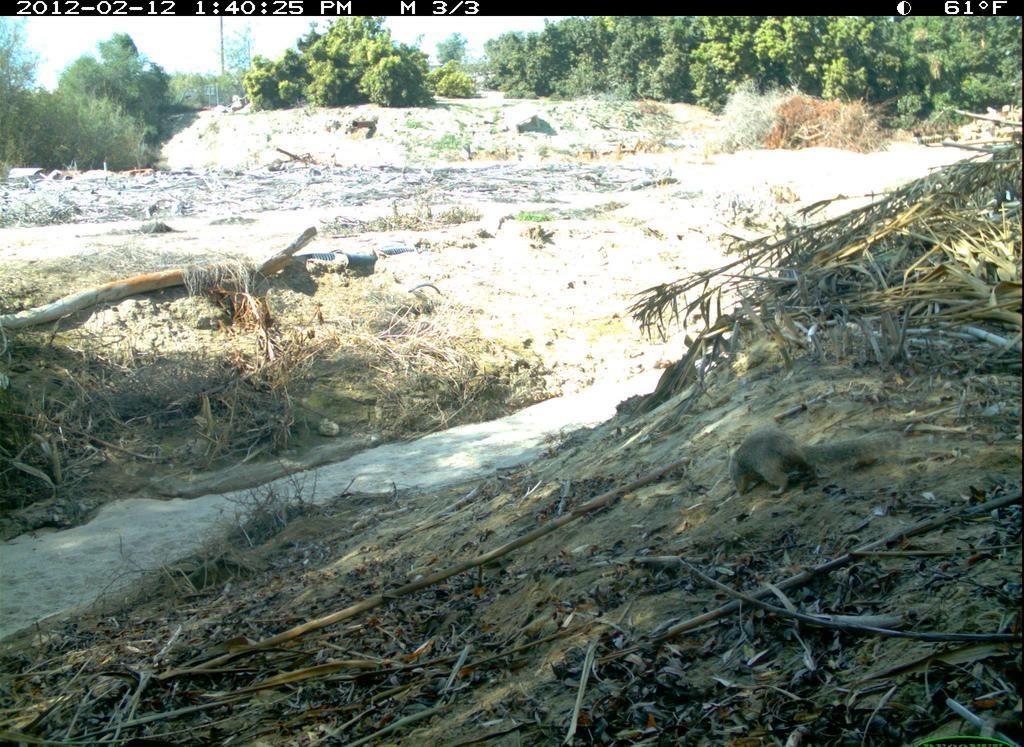squirrel: (708, 419, 911, 501)
